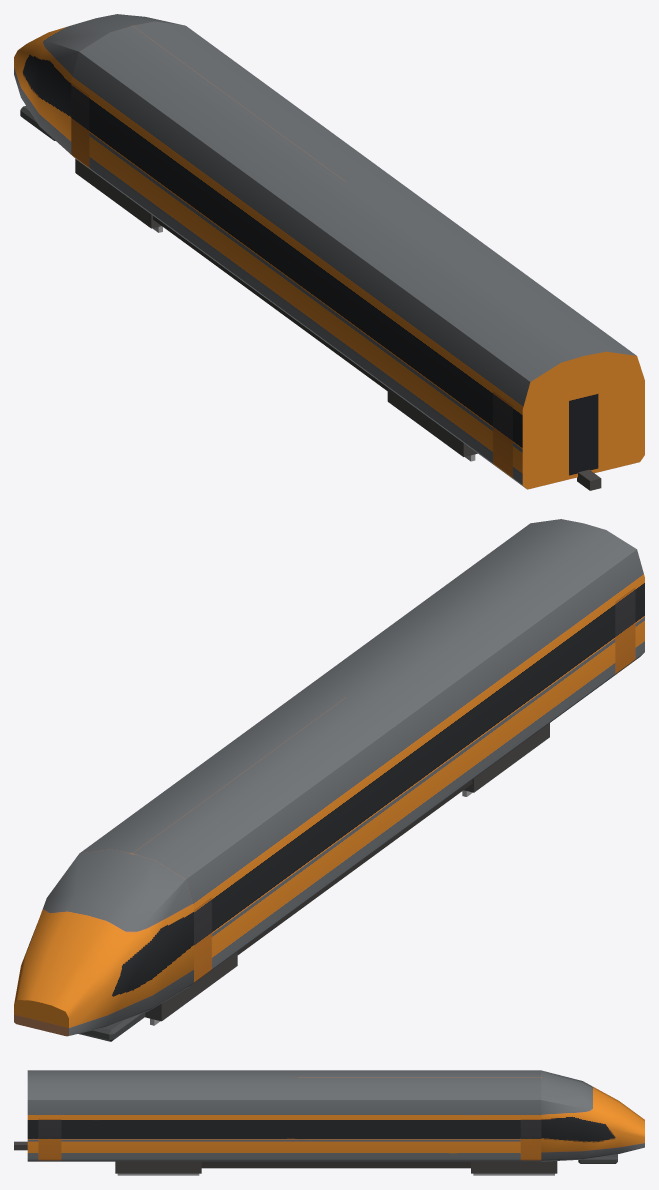
File: vb_cab_lod1.glb
3 views of the same model, one above another, from view 1: azimuth 30°, elevation 25°; view 2: azimuth 150°, elevation 25°; view 3: azimuth 270°, elevation 25° (orthographic). The views are drawn at different scales.
Visible parts, largest first — view 1: body; view 2: body; view 3: body.
Part boxes in pixels (x1,y1,x2,y2): body: (14, 14, 644, 490); body: (14, 519, 644, 1041); body: (14, 1070, 644, 1175).
Bounding box in the file's own units: 3.26 × 3.95 × 25.55.
Materials: 2 (2 with a texture image).
